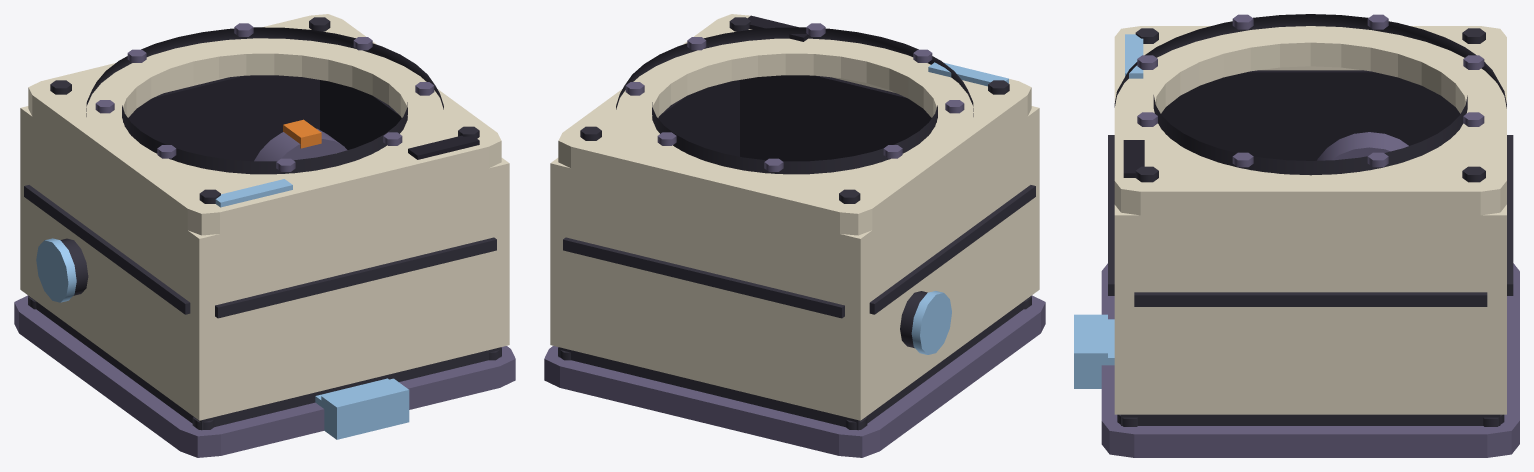
Rendered from reaction_wheels.glb.
3 views of the same model, side by side, from view 1: azimuth 30°, elevation 25°; view 2: azimuth 150°, elevation 25°; view 3: azimuth 270°, elevation 25° (orthographic). The views are drawn at different scales.
Visible parts, largest first — view 1: housing_CreamHull, housing_Graphite, housing_DecalDark, housing_PurpleGrey, housing_PaleBlue, wheel_3_PurpleGrey, wheel_3_Orange; view 2: housing_CreamHull, housing_Graphite, housing_PurpleGrey, housing_DecalDark, housing_PaleBlue; view 3: housing_CreamHull, housing_Graphite, housing_DecalDark, housing_PurpleGrey, housing_PaleBlue, wheel_1_PurpleGrey.
Part boxes in pixels (x1=…): housing_CreamHull: x1=20, y1=14, x2=509, y2=420; housing_Graphite: x1=24, y1=17, x2=501, y2=430; housing_DecalDark: x1=128, y1=75, x2=479, y2=161; housing_PurpleGrey: x1=14, y1=23, x2=515, y2=457; housing_PaleBlue: x1=36, y1=179, x2=409, y2=439; wheel_3_PurpleGrey: x1=254, y1=128, x2=347, y2=161; wheel_3_Orange: x1=283, y1=119, x2=321, y2=148; housing_CreamHull: x1=550, y1=14, x2=1039, y2=420; housing_Graphite: x1=558, y1=17, x2=1035, y2=430; housing_PurpleGrey: x1=544, y1=23, x2=1045, y2=457; housing_DecalDark: x1=658, y1=15, x2=931, y2=161; housing_PaleBlue: x1=911, y1=62, x2=1008, y2=354; housing_CreamHull: x1=1114, y1=26, x2=1506, y2=414; housing_Graphite: x1=1108, y1=14, x2=1513, y2=426; housing_DecalDark: x1=1123, y1=70, x2=1460, y2=177; housing_PurpleGrey: x1=1101, y1=14, x2=1519, y2=457; housing_PaleBlue: x1=1074, y1=34, x2=1143, y2=388; wheel_1_PurpleGrey: x1=1317, y1=132, x2=1408, y2=160.
Size of the model in its own units: 0.331 by 0.238 by 0.341.
